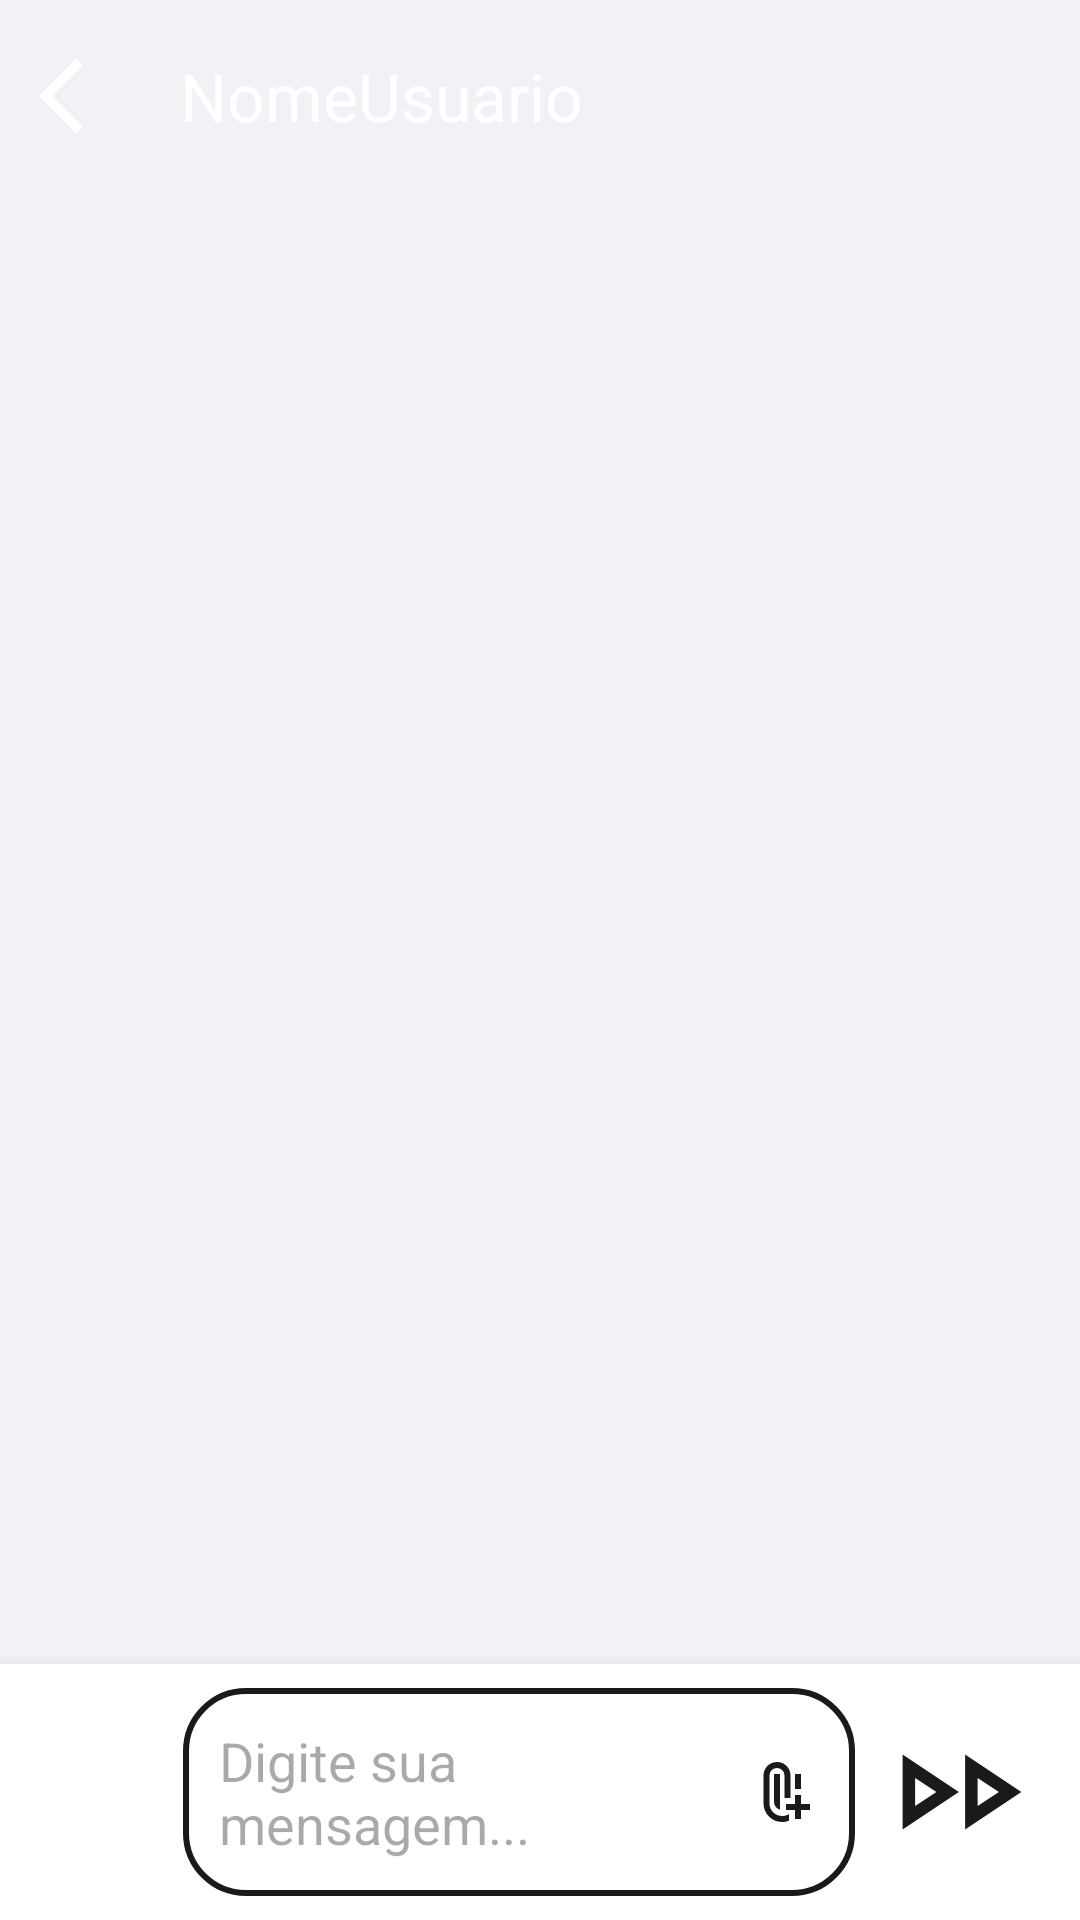

Where icons sit on this 1080×1920 app screen, as [x1, y1, x2, y2]:
Adicionar documento: [763, 1762, 810, 1822]
